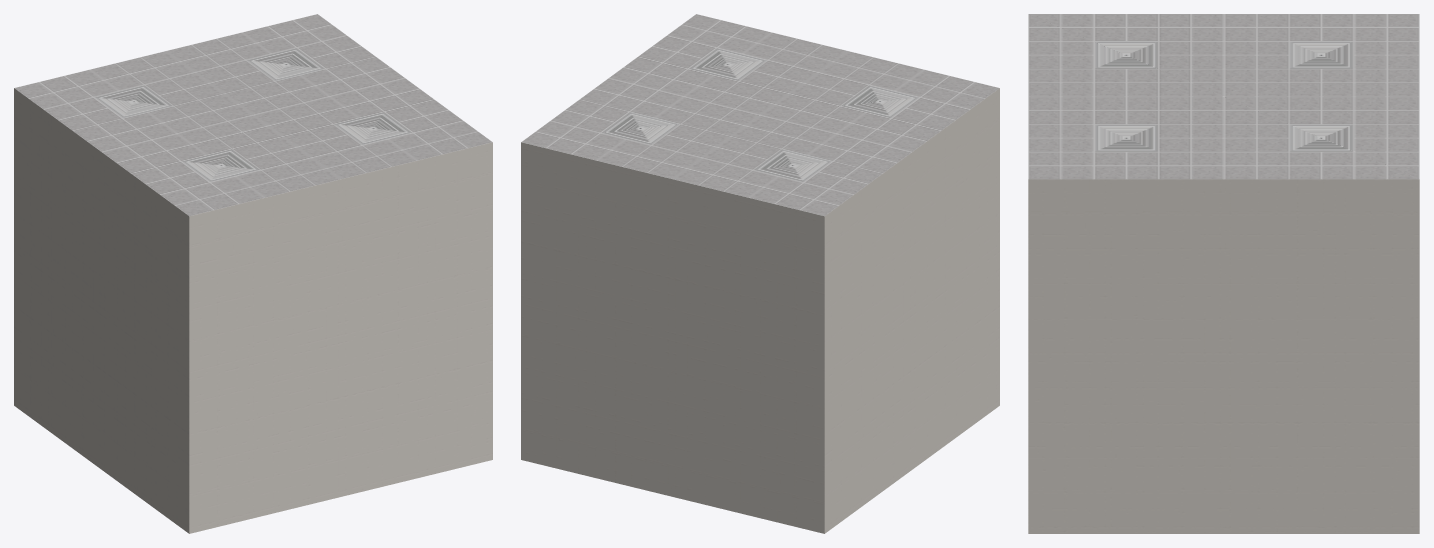
Rendered from labRoom+Lights+Cages+Table.fbx.
The picture shows the model from 3 angles, left to right: view 1: azimuth 30°, elevation 25°; view 2: azimuth 150°, elevation 25°; view 3: azimuth 270°, elevation 25°; orthographic projection. The views are drawn at different scales.
Parts seen in each view (by area): view 1: pCube4; view 2: pCube4; view 3: pCube4.
Part boxes in pixels (x1,y1,x2,y2): pCube4: (14, 14, 492, 533); pCube4: (521, 14, 999, 533); pCube4: (1028, 14, 1419, 533).
Size of the model in its own units: 5422 by 5422 by 5422.
